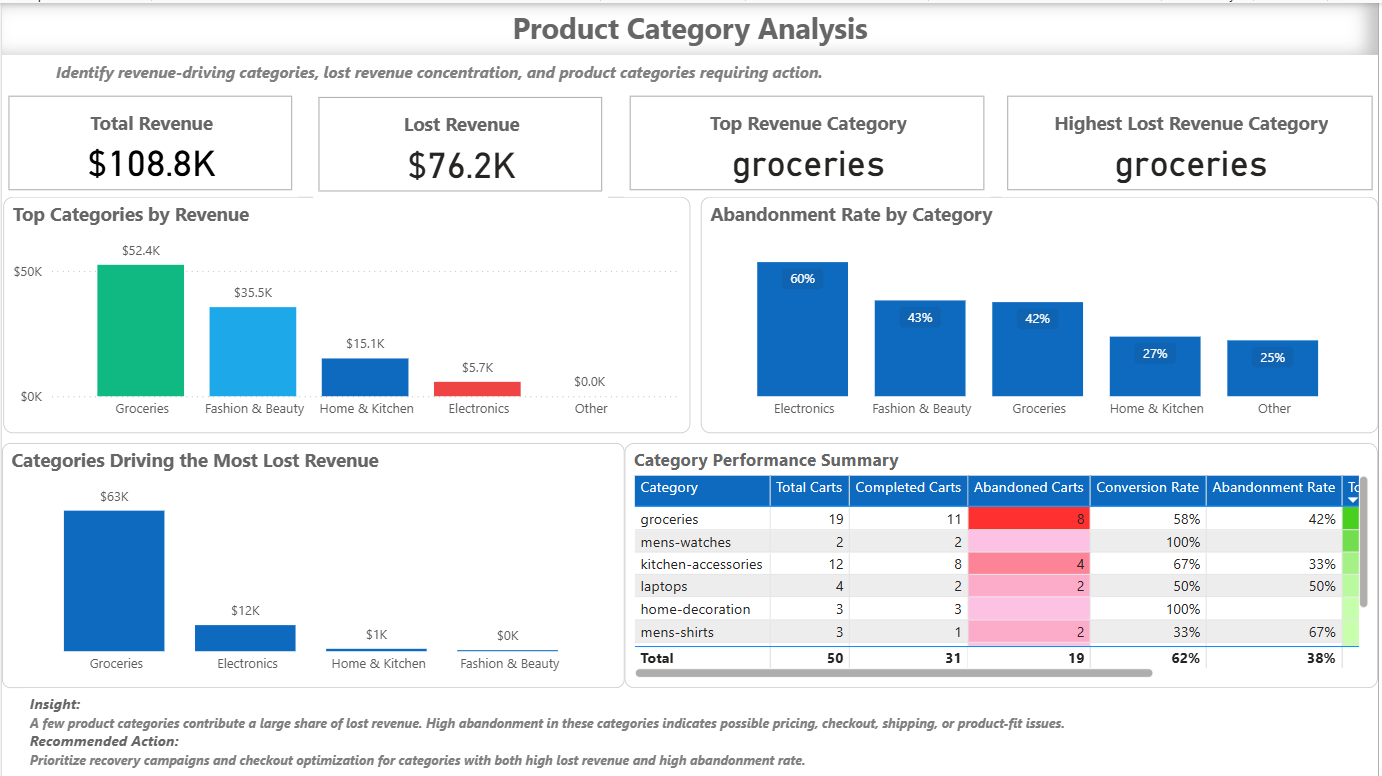

What the dashboard file says about the page in this screenshot:
{"tool":"powerbi","page":{"name":"📦 Product Category Analysis","canvas":[1280,720],"ordinal":2},"visuals":[{"type":"treemap","title":"Category Performance Metrics","fields":{"Group":["CartData_Cleaned.category_group"],"Details":["CartData_Cleaned.primary_category"],"Values":["CartData_Cleaned.Total Revenue"]},"box":[0,65.1,569.8,234.9],"z":0},{"type":"tableEx","fields":{"Values":["CartData_Cleaned.category_group","CartData_Cleaned.primary_category","CartData_Cleaned.Total Revenue","CartData_Cleaned.Abandoned Carts","CartData_Cleaned.Abandonment Rate","CartData_Cleaned.Avg Cart Value"]},"box":[579.1,65.1,701.2,234.9],"z":1000},{"type":"clusteredBarChart","title":"Top 3 Categories by Revenue","fields":{"Category":["CartData_Cleaned.primary_category"],"Y":["CartData_Cleaned.Total Revenue"],"Series":["CartData_Cleaned.category_group"]},"box":[0,308.1,589.5,210.5],"z":2000},{"type":"clusteredColumnChart","title":"Completed vs Abandoned by Category","fields":{"Category":["CartData_Cleaned.primary_category"],"Y":["CartData_Cleaned.Completed Carts","CartData_Cleaned.Abandoned Carts"]},"box":[597.7,308.1,682.6,210.5],"z":3000},{"type":"clusteredColumnChart","title":"Average Product Price by Category","fields":{"Category":["CartData_Cleaned.primary_category"],"Y":["CartData_Cleaned.Avg Product Price"]},"box":[0,526.7,639.5,193],"z":4000},{"type":"cardVisual","title":"Category Insights","fields":{"Data":["CartData_Cleaned.Best Category by Revenue","CartData_Cleaned.Best Category Revenue","CartData_Cleaned.Worst Category by Abandonment"]},"box":[639.5,526.7,640.7,193],"z":5000},{"type":"textbox","box":[0,0,1280,65],"z":6000}]}

Visuals, with their boxes in screenshot pixels (x1, y1, x2, y2), scaled from the page's 1280x720 canvas onto the 1382x776 screenshot:
"Category Performance Metrics" treemap: BBox(0, 70, 615, 323)
tableEx - CartData_Cleaned.category_group x CartData_Cleaned.primary_category: BBox(625, 70, 1381, 323)
"Top 3 Categories by Revenue" clusteredBarChart: BBox(0, 332, 636, 559)
"Completed vs Abandoned by Category" clusteredColumnChart: BBox(645, 332, 1381, 559)
"Average Product Price by Category" clusteredColumnChart: BBox(0, 568, 690, 775)
"Category Insights" cardVisual: BBox(690, 568, 1381, 775)
textbox: BBox(0, 0, 1381, 70)
